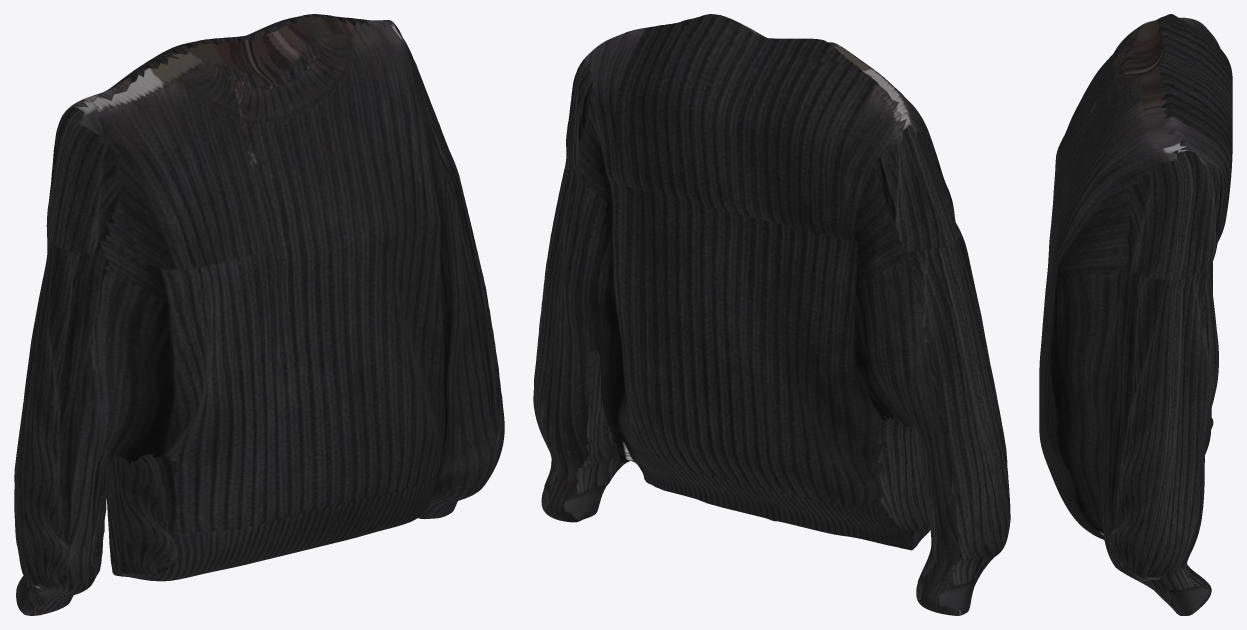
The model's file is NF010-fit-v5.glb.
3 views of the same model, side by side, from view 1: azimuth 30°, elevation 25°; view 2: azimuth 150°, elevation 25°; view 3: azimuth 270°, elevation 25° (orthographic). The views are drawn at different scales.
Parts seen in each view (by area): view 1: NF010_worn_photo_fitted; view 2: NF010_worn_photo_fitted; view 3: NF010_worn_photo_fitted.
Part boxes in pixels (box(x1,y1,x2,y2)): NF010_worn_photo_fitted: box(14, 14, 504, 615); NF010_worn_photo_fitted: box(533, 14, 1010, 615); NF010_worn_photo_fitted: box(1039, 14, 1232, 615).
Bounding box in the file's own units: 0.585 × 0.6317 × 0.2293.
3 materials, 3 textured.
